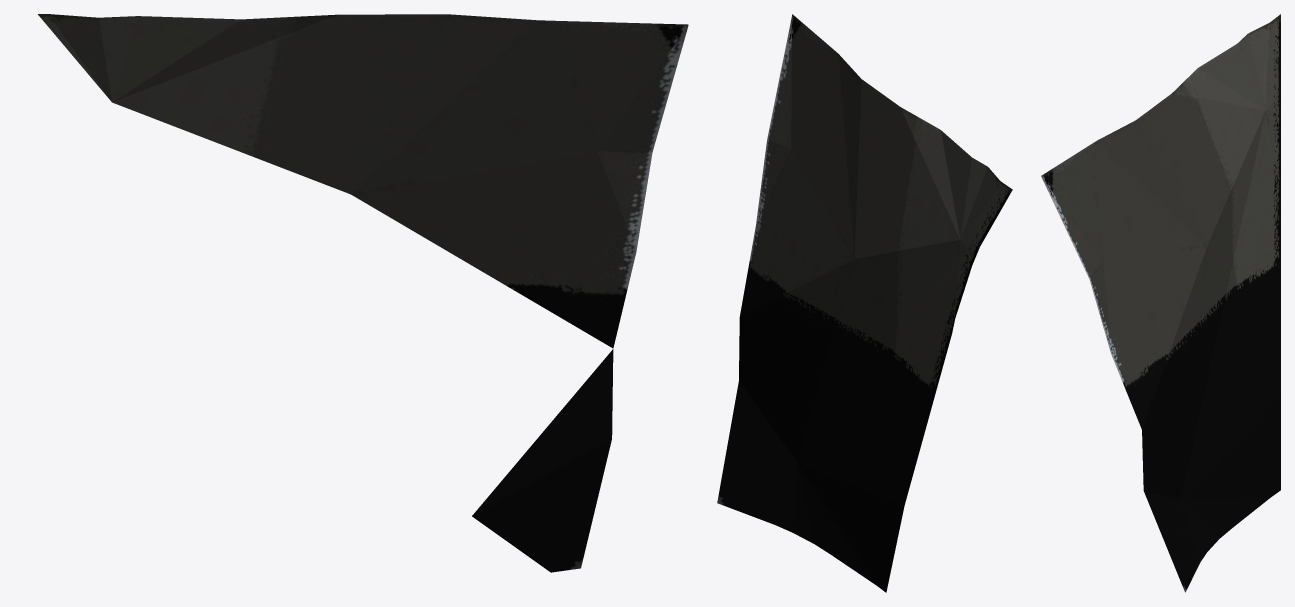
3 views of the same model, side by side, from view 1: azimuth 30°, elevation 25°; view 2: azimuth 150°, elevation 25°; view 3: azimuth 270°, elevation 25° (orthographic). The views are drawn at different scales.
Size of the model in its own units: 1.39 by 1.67 by 0.8725.
Materials: 2 (2 with a texture image).
